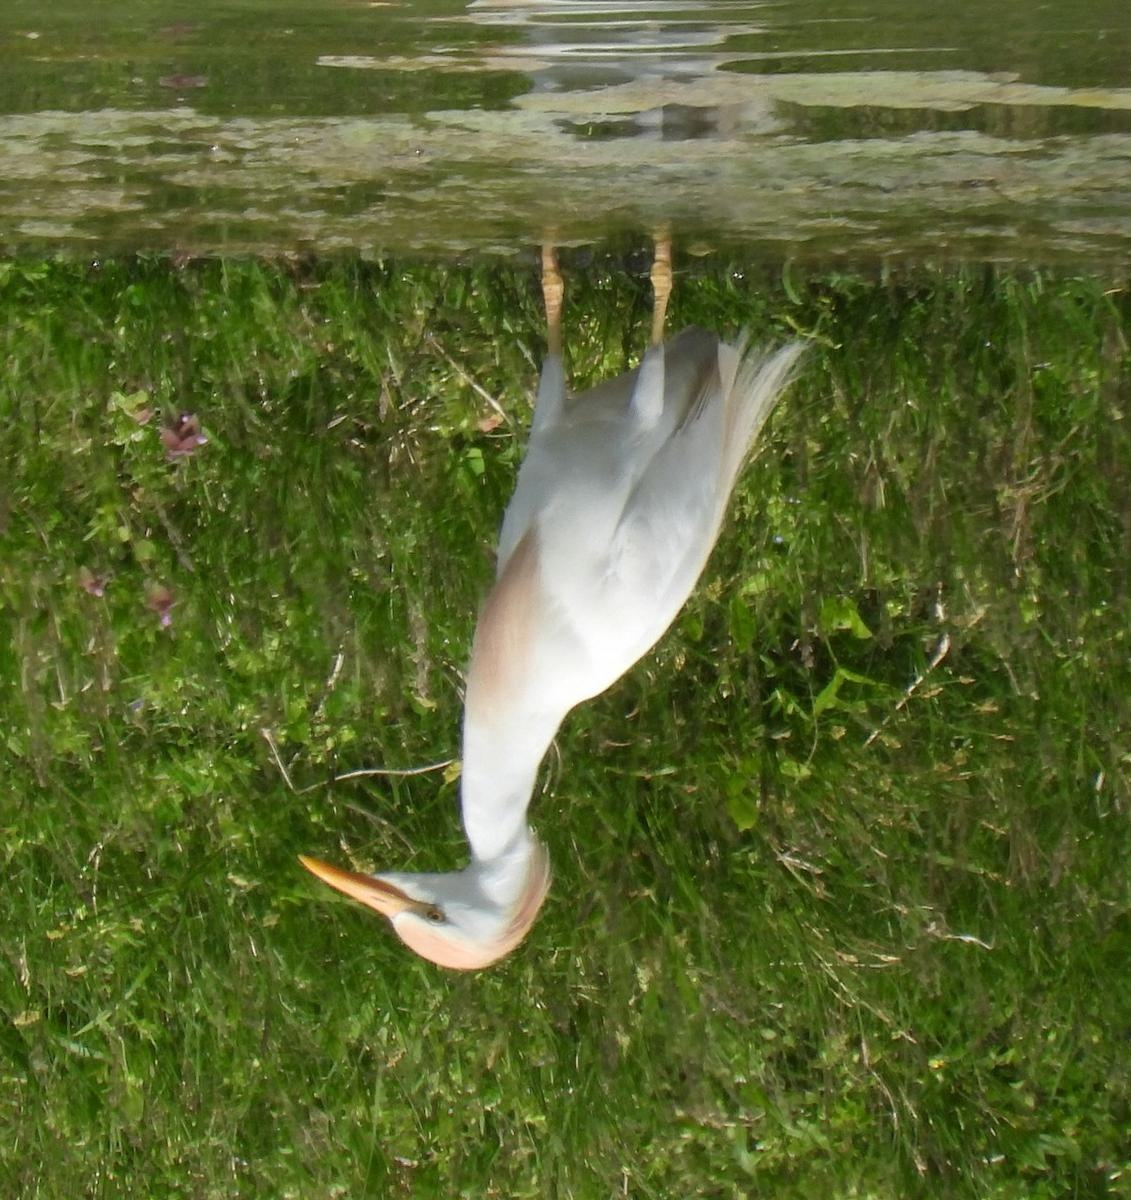egret: (287, 183, 828, 988)
